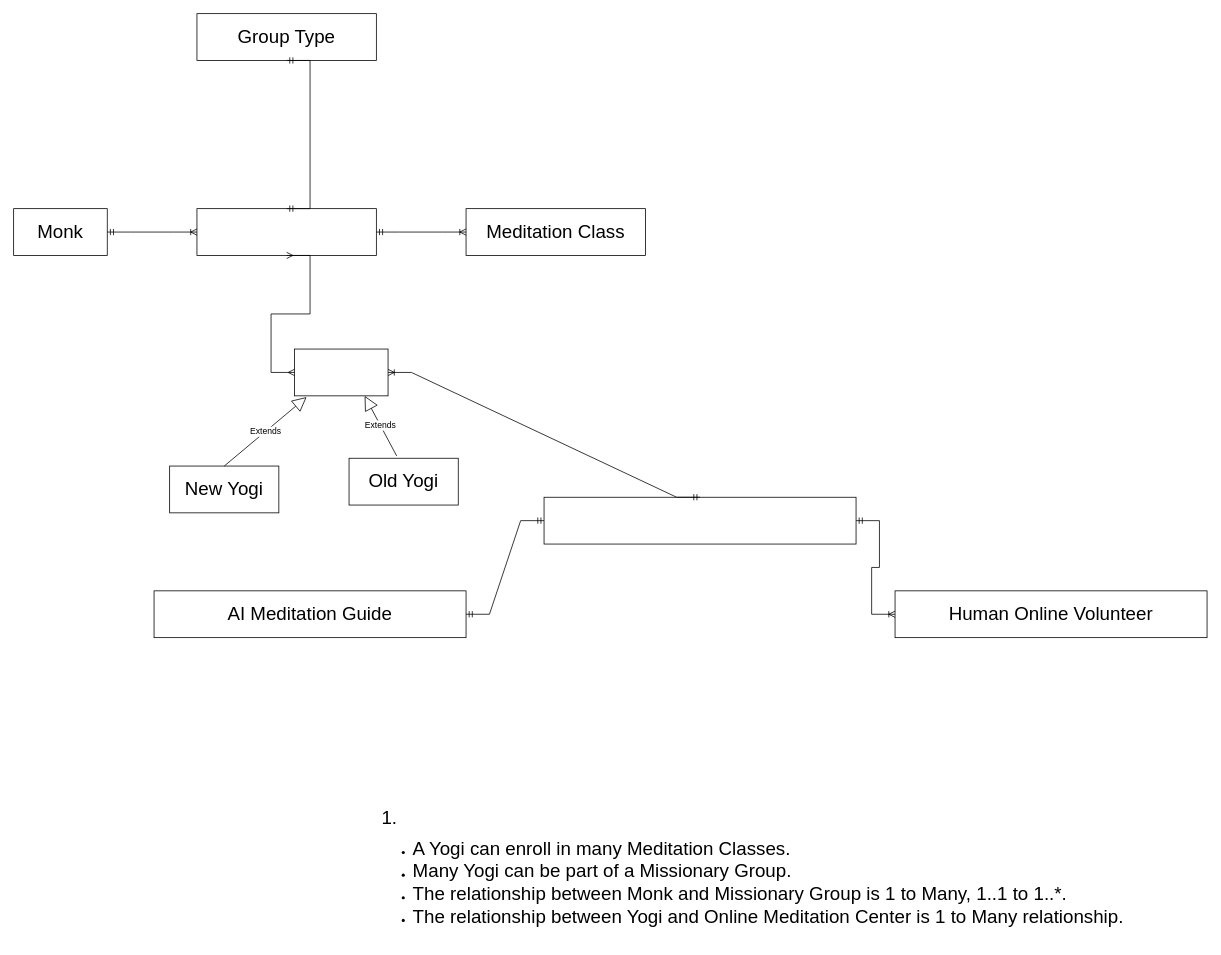
This 1221x955 diagram has some shape labels left out. The shapes that lost their labels are listed below. From the top down, each one's centre as x and y in pixels, then its label:
At point 286,231: "Missionary Group".
At point 341,372: "Yogi".
At point 699,520: "Online Meditation Center".
